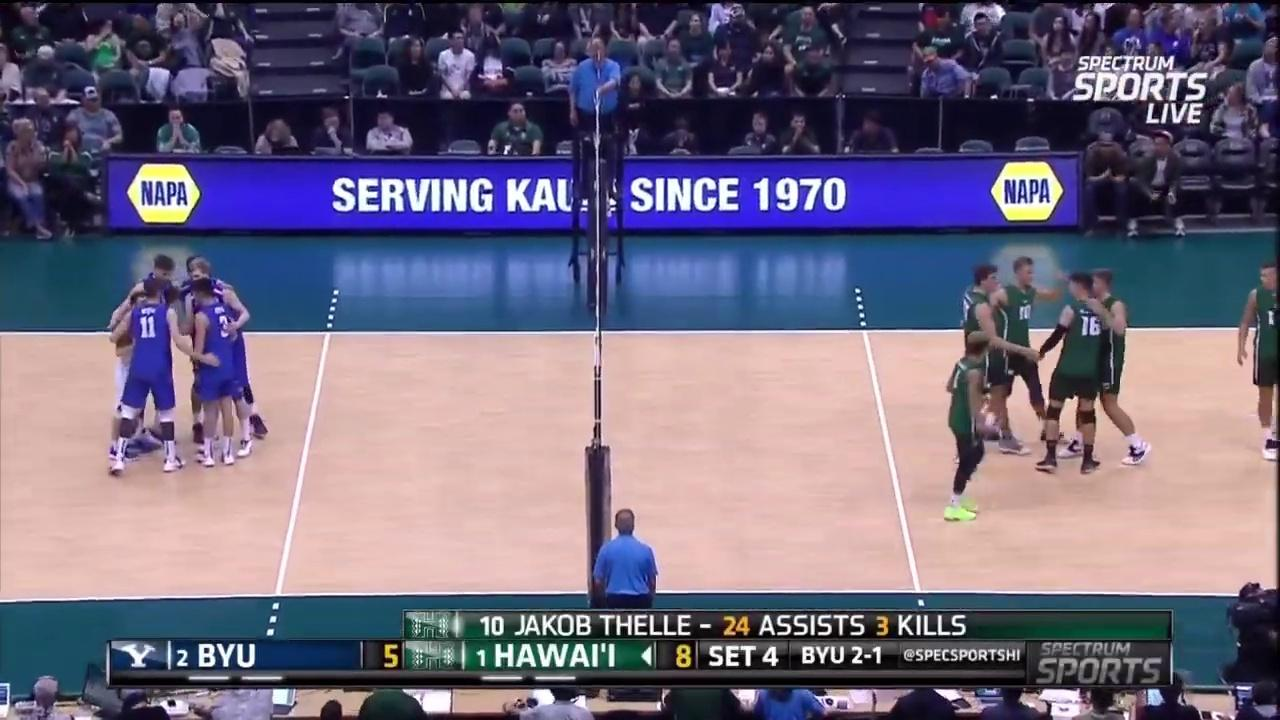player: (1036, 273, 1104, 476), (954, 266, 1026, 454), (994, 261, 1065, 446), (1084, 268, 1148, 472), (190, 257, 254, 461), (131, 249, 186, 439), (134, 277, 183, 481), (189, 281, 241, 464), (944, 326, 991, 528), (1238, 258, 1280, 462), (110, 288, 154, 459)
refree: (586, 508, 664, 667), (564, 34, 627, 199)
